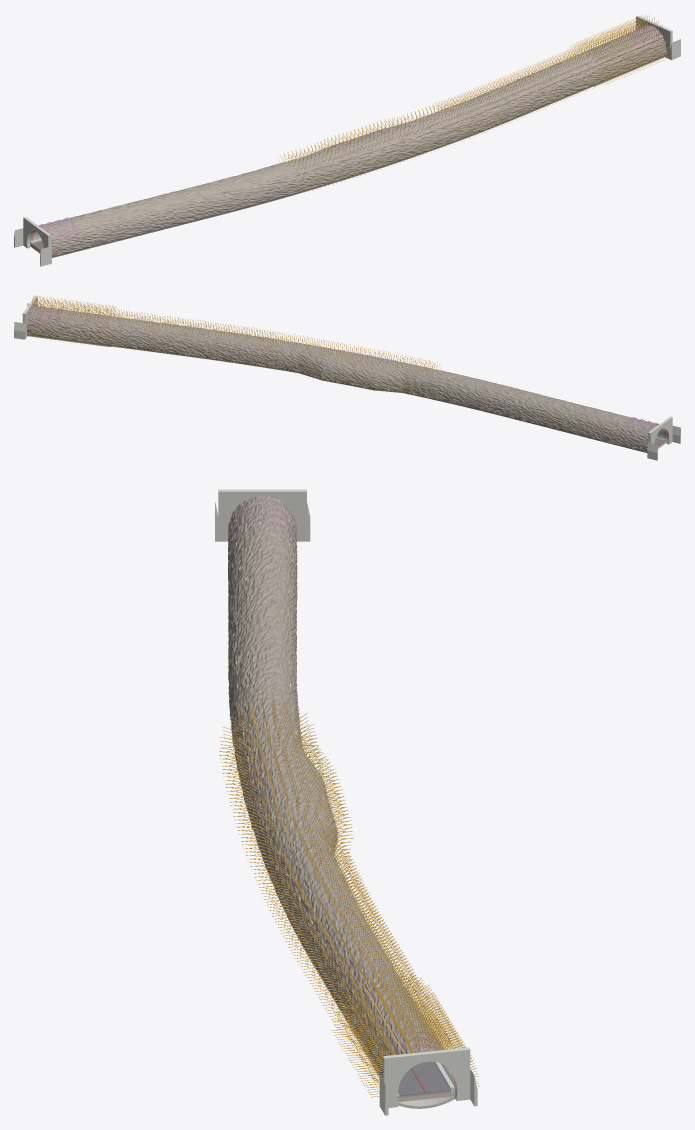
3 renders of one model, top to bottom at view 1: azimuth 30°, elevation 25°; view 2: azimuth 150°, elevation 25°; view 3: azimuth 270°, elevation 25°, orthographic. The views are drawn at different scales.
Parts seen in each view (by area): view 1: 出来形|掘削出来形 (余掘り反映), ロックボルト|ロックボルト L=3.0m @1.2x1.5 [DⅡ区間] (700本), ロックボルト|ロックボルト L=4.0m @1.0x1.2 [DⅢa区間] (540本), ロックボルト|ロックボルト L=3.0m @1.5x1.5 [DⅠ区間] (582本), 坑門工|坑門工 面壁 (起点側), 坑門工|坑門工 面壁 (終点側); view 2: 出来形|掘削出来形 (余掘り反映), ロックボルト|ロックボルト L=3.0m @1.2x1.5 [DⅡ区間] (700本), ロックボルト|ロックボルト L=3.0m @1.5x1.5 [DⅠ区間] (582本), ロックボルト|ロックボルト L=4.0m @1.0x1.2 [DⅢa区間] (540本), 坑門工|坑門工 面壁 (起点側); view 3: 出来形|掘削出来形 (余掘り反映), ロックボルト|ロックボルト L=3.0m @1.2x1.5 [DⅡ区間] (700本), ロックボルト|ロックボルト L=3.0m @1.5x1.5 [DⅠ区間] (582本), ロックボルト|ロックボルト L=4.0m @1.0x1.2 [DⅢa区間] (540本), 坑門工|坑門工 面壁 (終点側), 坑門工|坑門工 面壁 (起点側), 舗装|舗装 表層 t=4cm.
Part boxes in pixels (<box>): 出来形|掘削出来形 (余掘り反映): <box>39,26,666,257</box>; ロックボルト|ロックボルト L=3.0m @1.2x1.5 [DⅡ区間] (700本): <box>429,47,601,141</box>; ロックボルト|ロックボルト L=4.0m @1.0x1.2 [DⅢa区間] (540本): <box>564,14,672,85</box>; ロックボルト|ロックボルト L=3.0m @1.5x1.5 [DⅠ区間] (582本): <box>275,104,457,192</box>; 坑門工|坑門工 面壁 (起点側): <box>23,217,50,248</box>; 坑門工|坑門工 面壁 (終点側): <box>636,15,672,59</box>; 出来形|掘削出来形 (余掘り反映): <box>27,306,658,452</box>; ロックボルト|ロックボルト L=3.0m @1.2x1.5 [DⅡ区間] (700本): <box>109,309,282,367</box>; ロックボルト|ロックボルト L=3.0m @1.5x1.5 [DⅠ区間] (582本): <box>271,333,441,397</box>; ロックボルト|ロックボルト L=4.0m @1.0x1.2 [DⅢa区間] (540本): <box>25,295,118,346</box>; 坑門工|坑門工 面壁 (起点側): <box>648,416,672,444</box>; 出来形|掘削出来形 (余掘り反映): <box>228,496,442,1079</box>; ロックボルト|ロックボルト L=3.0m @1.2x1.5 [DⅡ区間] (700本): <box>260,836,432,1027</box>; ロックボルト|ロックボルト L=3.0m @1.5x1.5 [DⅠ区間] (582本): <box>218,697,356,887</box>; ロックボルト|ロックボルト L=4.0m @1.0x1.2 [DⅢa区間] (540本): <box>331,968,479,1097</box>; 坑門工|坑門工 面壁 (終点側): <box>383,1047,470,1107</box>; 坑門工|坑門工 面壁 (起点側): <box>218,489,306,541</box>; 舗装|舗装 表層 t=4cm: <box>398,1061,450,1095</box>.
Bounding box in the file's own units: 247 × 14.97 × 46.36.
